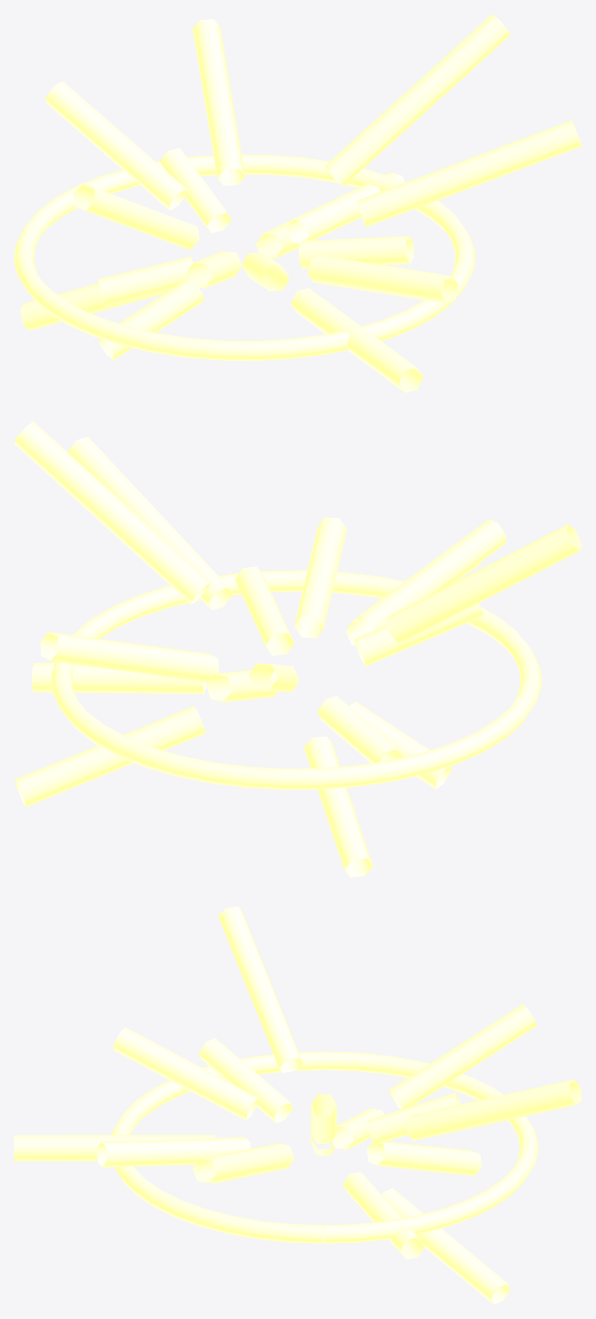
The model's file is explosion.fire.glb.
The picture shows the model from 3 angles, top to bottom: view 1: azimuth 30°, elevation 25°; view 2: azimuth 150°, elevation 25°; view 3: azimuth 270°, elevation 25°; orthographic projection. The views are drawn at different scales.
Visible parts, largest first — view 1: explosion.fire.sweep.017; view 2: explosion.fire.sweep.017; view 3: explosion.fire.sweep.017.
Boxes of the visible parts, x1=… form: explosion.fire.sweep.017: x1=14, y1=14, x2=581, y2=392; explosion.fire.sweep.017: x1=14, y1=421, x2=581, y2=877; explosion.fire.sweep.017: x1=14, y1=906, x2=581, y2=1304.
Bounding box in the file's own units: 1.41 × 0.7533 × 1.52.
